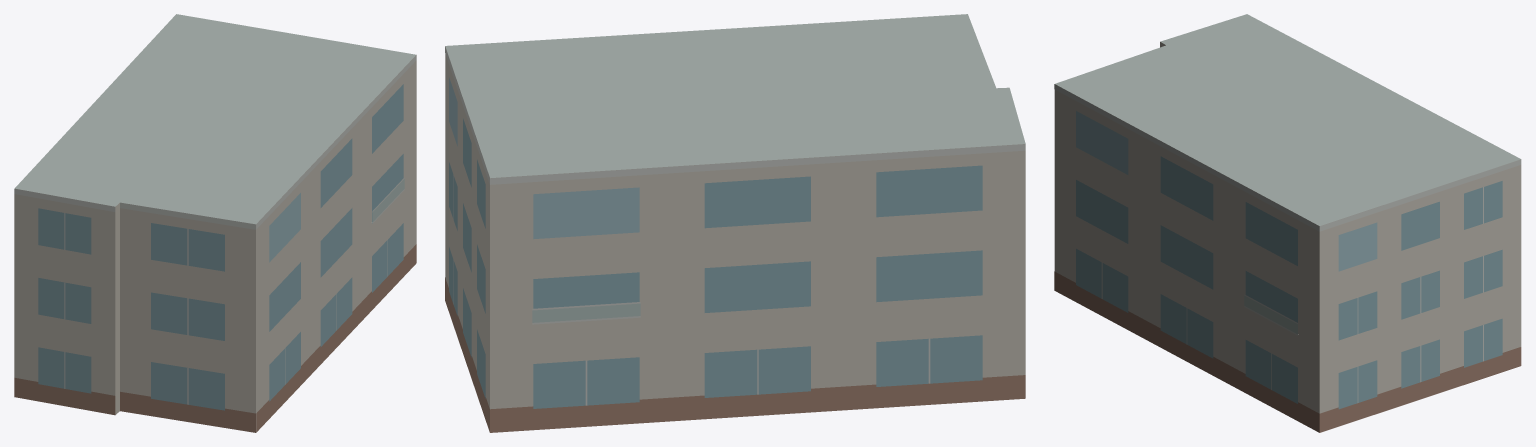
The model's file is survey-upis-32913759.glb.
The picture shows the model from 3 angles, left to right: view 1: azimuth 30°, elevation 25°; view 2: azimuth 150°, elevation 25°; view 3: azimuth 270°, elevation 25°; orthographic projection. The views are drawn at different scales.
Visible parts, largest first — view 1: survey-upis-32913759.tmp; view 2: survey-upis-32913759.tmp; view 3: survey-upis-32913759.tmp.
Part boxes in pixels (bbox=[...]): survey-upis-32913759.tmp: bbox=[14, 14, 416, 432]; survey-upis-32913759.tmp: bbox=[445, 14, 1025, 432]; survey-upis-32913759.tmp: bbox=[1054, 14, 1521, 432].
Size of the model in its own units: 20.37 by 9.25 by 18.94.
